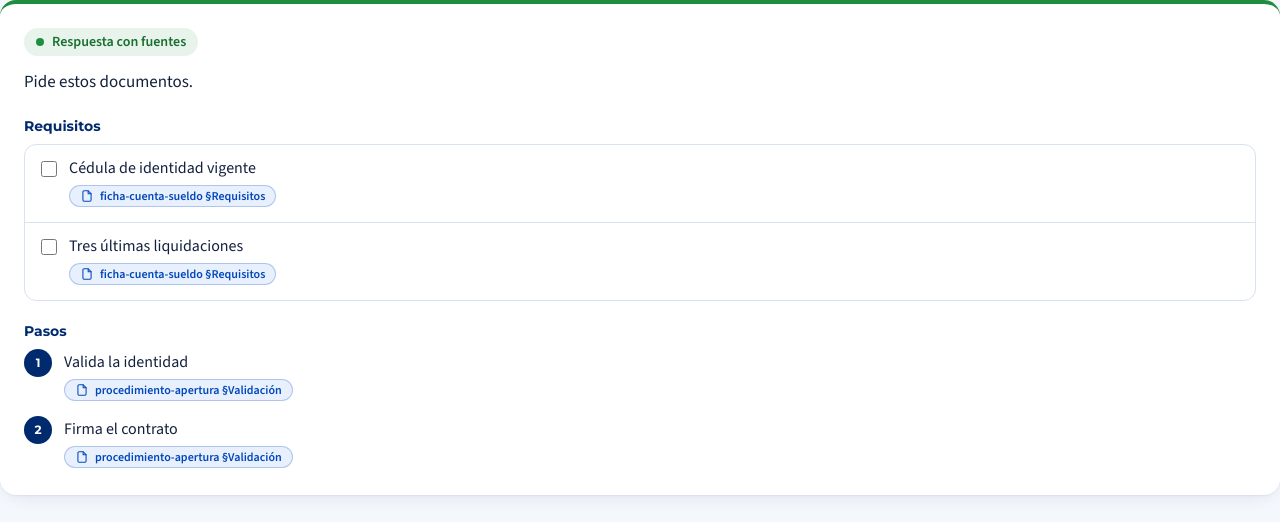
Test: AnswerCard › opens the cited snippet from a citation chip
The image size is (1280, 522).
Expected: the text "Validar con huella." is not shown
Step 1. Click the button "procedimiento-apertura §Validación" below "Valida la identidad" → click(178, 390), box [64, 379, 293, 401]
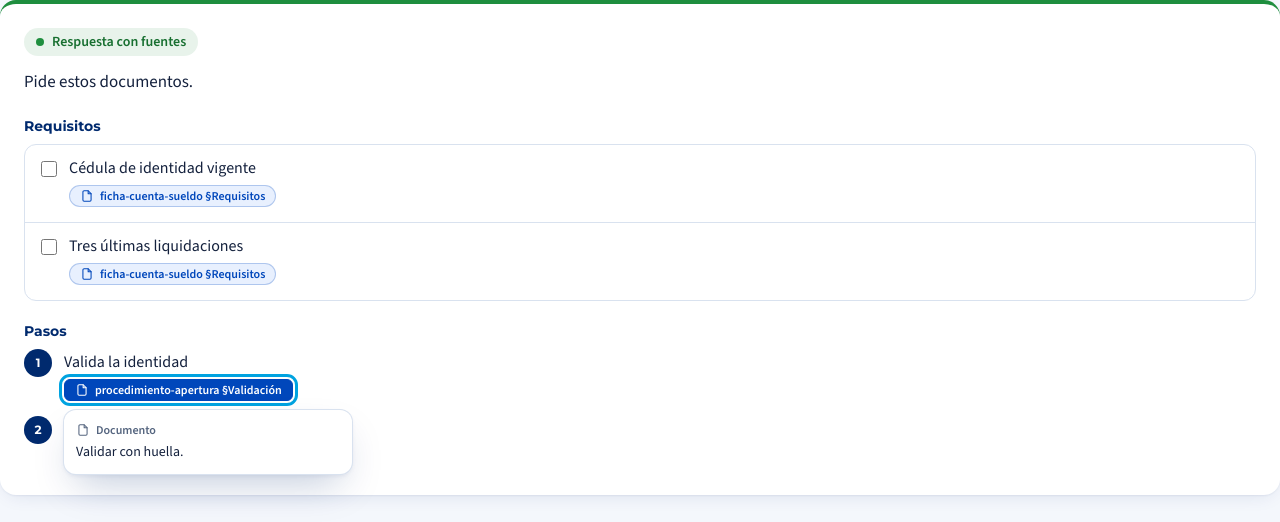
Result: the button "procedimiento-apertura §Validación" is expanded at [64, 379, 293, 401]
Result: the text "Validar con huella." is shown at [76, 442, 184, 461]
